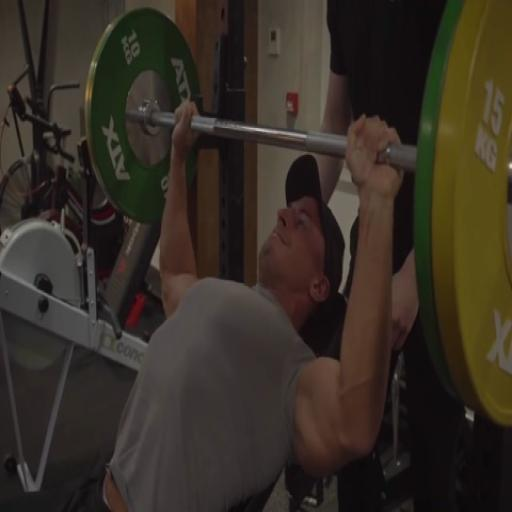exercise: (0, 98, 411, 511)
